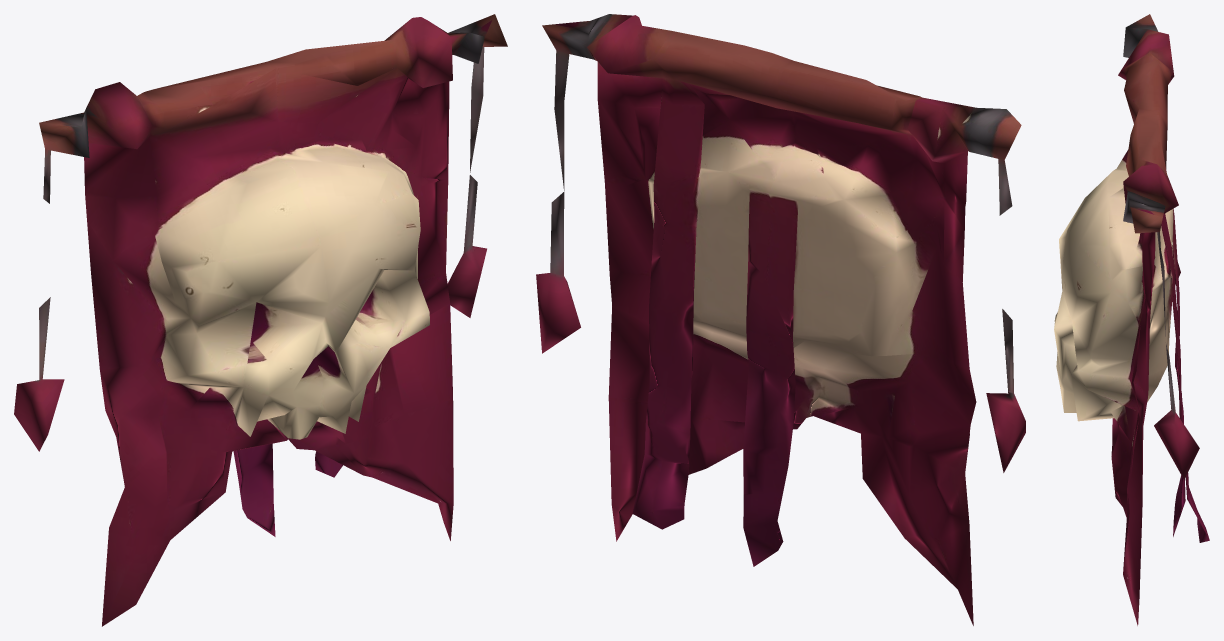
Rendered from cr_banner-Bg_MCOwF.glb.
3 renders of one model, left to right at view 1: azimuth 30°, elevation 25°; view 2: azimuth 150°, elevation 25°; view 3: azimuth 270°, elevation 25°, orthographic. The views are drawn at different scales.
Parts seen in each view (by area): view 1: tripo_node_e651e00e-5409-4375-83dd-bd7e4dc4a9fc; view 2: tripo_node_e651e00e-5409-4375-83dd-bd7e4dc4a9fc; view 3: tripo_node_e651e00e-5409-4375-83dd-bd7e4dc4a9fc.
Boxes of the visible parts, left/top/right/bottom form: tripo_node_e651e00e-5409-4375-83dd-bd7e4dc4a9fc: left=14, top=14, right=507, bottom=626; tripo_node_e651e00e-5409-4375-83dd-bd7e4dc4a9fc: left=536, top=14, right=1025, bottom=625; tripo_node_e651e00e-5409-4375-83dd-bd7e4dc4a9fc: left=1054, top=14, right=1209, bottom=625.
Size of the model in its own units: 1.9 by 2.01 by 0.6287.
1 material, 1 textured.
